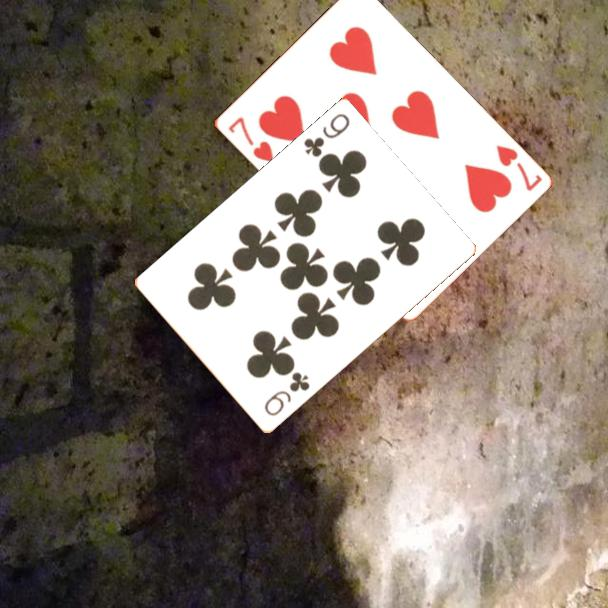c09: (260, 369, 313, 420), (300, 110, 353, 161)
h07: (224, 113, 277, 166), (492, 141, 545, 194)
